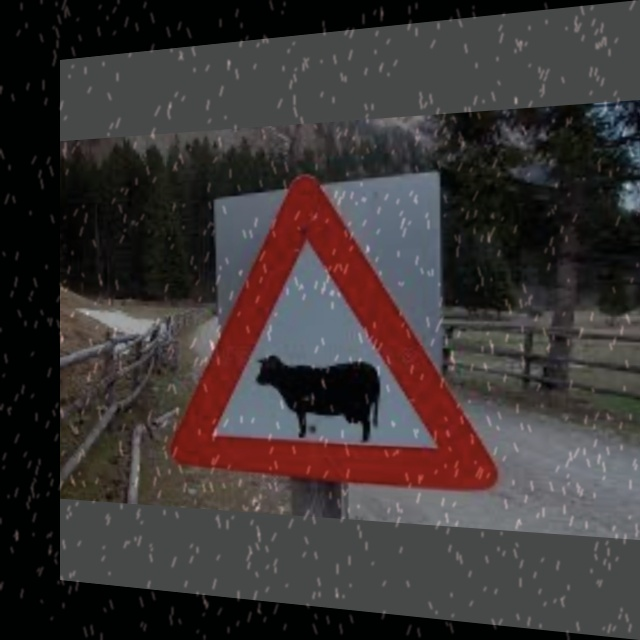Cattle: (174, 181, 485, 494)
